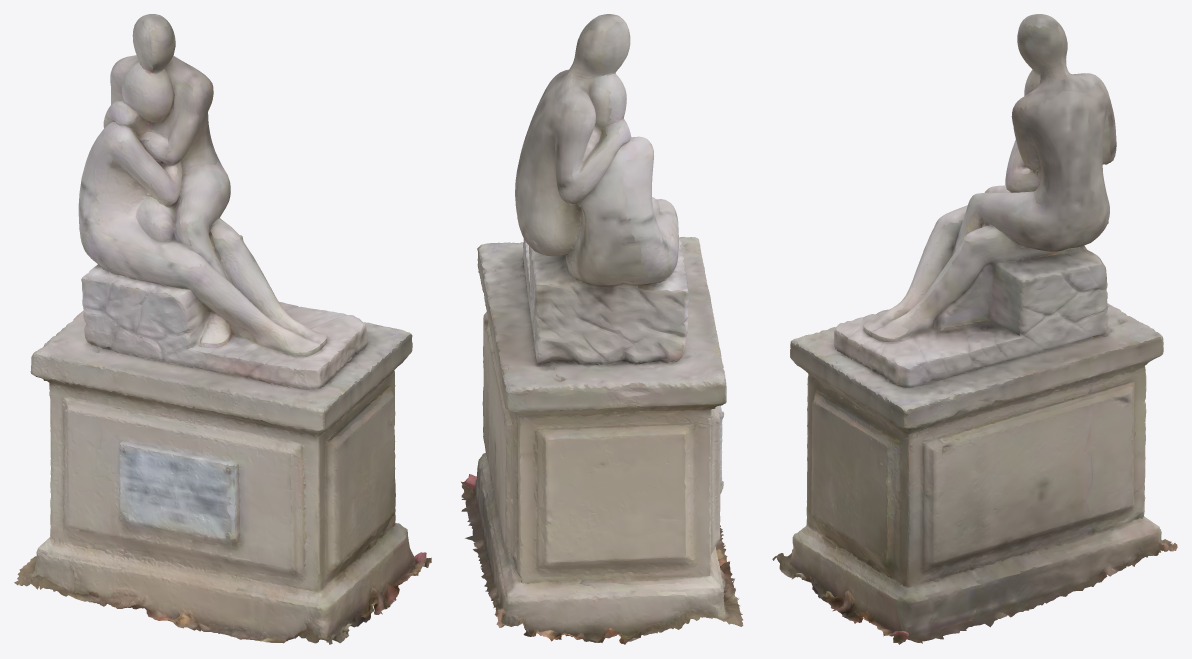
File: preview.glb
3 views of the same model, side by side, from view 1: azimuth 30°, elevation 25°; view 2: azimuth 150°, elevation 25°; view 3: azimuth 270°, elevation 25° (orthographic). The views are drawn at different scales.
Parts seen in each view (by area): view 1: Object_4; view 2: Object_4; view 3: Object_4.
Part boxes in pixels (bbox=[...]): Object_4: bbox=[14, 14, 431, 644]; Object_4: bbox=[461, 14, 743, 644]; Object_4: bbox=[772, 14, 1177, 644].
Bounding box in the file's own units: 1.16 × 1.8 × 1.23.
1 material, 1 textured.
